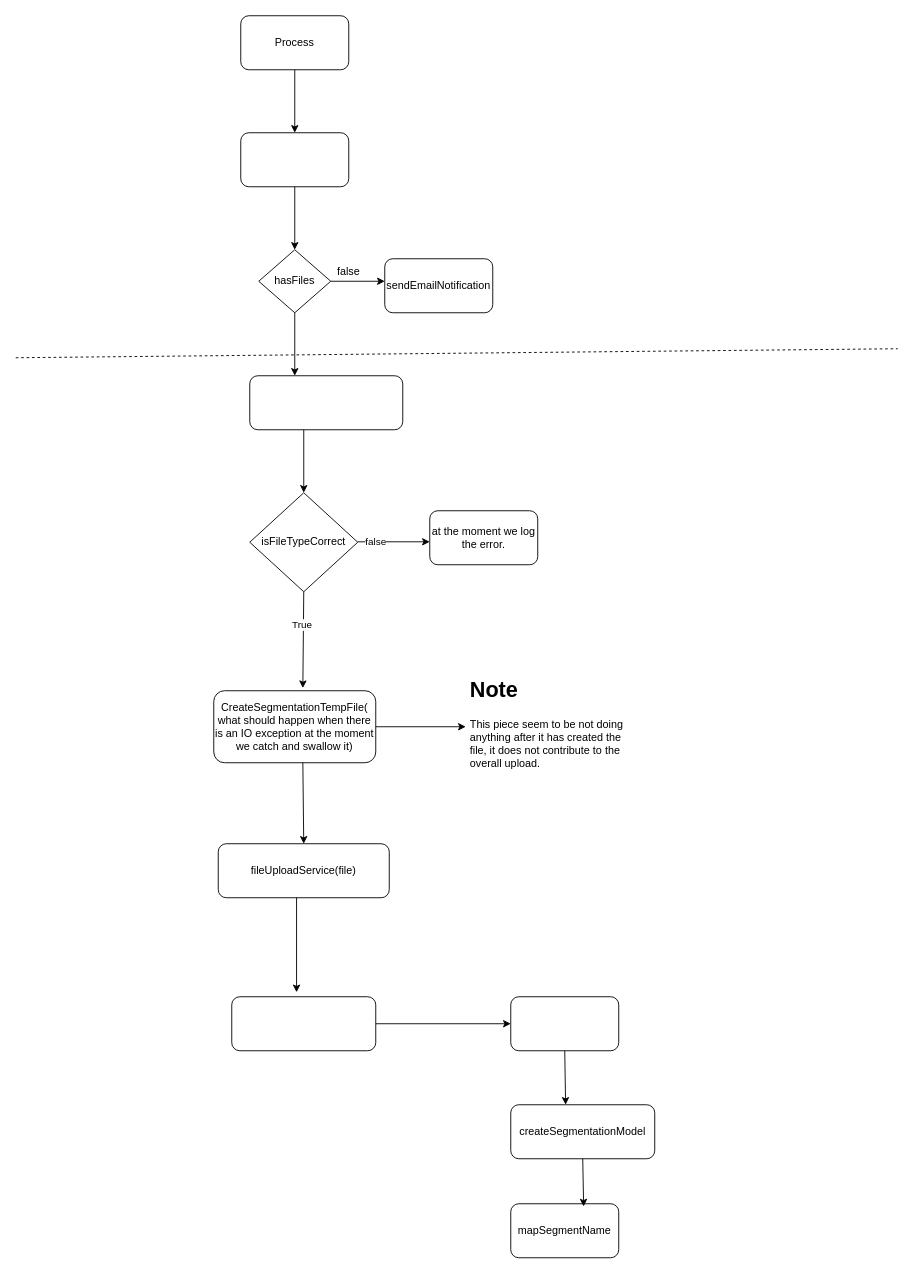
The diagram is 914 pixels wide and 1274 high, and some of its shapes have lost their labels. Here are the shapes that lost their labels. From the top down, the centre of each, then its label:
pixel 294 159: getFileList
pixel 326 402: getSegmentantionModelList( CurrentlyCalledUpload())
pixel 303 1023: getSegmentationModelList()
pixel 564 1023: readCSVFIle
